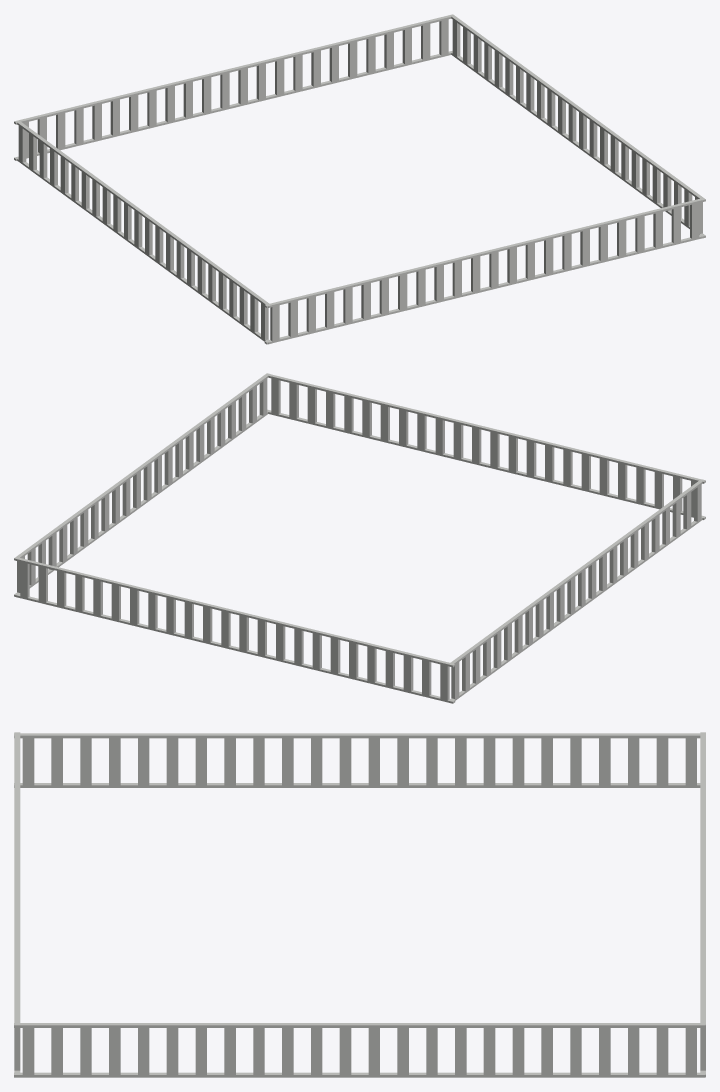
Rendered from barrieres_carre.dae.
3 views of the same model, one above another, from view 1: azimuth 30°, elevation 25°; view 2: azimuth 150°, elevation 25°; view 3: azimuth 270°, elevation 25° (orthographic). The views are drawn at different scales.
Parts seen in each view (by area): view 1: grille_Cube, grille_Cube.003, grille_Cube.002, grille_Cube.001; view 2: grille_Cube.003, grille_Cube, grille_Cube.002, grille_Cube.001; view 3: grille_Cube.001, grille_Cube.002, grille_Cube, grille_Cube.003.
Part boxes in pixels (<box>): grille_Cube: <box>264,198,704,344</box>; grille_Cube.003: <box>14,15,453,160</box>; grille_Cube.002: <box>16,121,271,344</box>; grille_Cube.001: <box>450,14,705,238</box>; grille_Cube.003: <box>15,557,455,703</box>; grille_Cube: <box>267,374,705,519</box>; grille_Cube.002: <box>448,479,704,701</box>; grille_Cube.001: <box>14,373,270,596</box>; grille_Cube.001: <box>14,1023,705,1077</box>; grille_Cube.002: <box>14,733,705,787</box>; grille_Cube: <box>14,732,20,1074</box>; grille_Cube.003: <box>700,732,705,1076</box>.
Bounding box in the file's own units: 24.06 × 24.01 × 2.
Materials: 1 (1 with a texture image).
